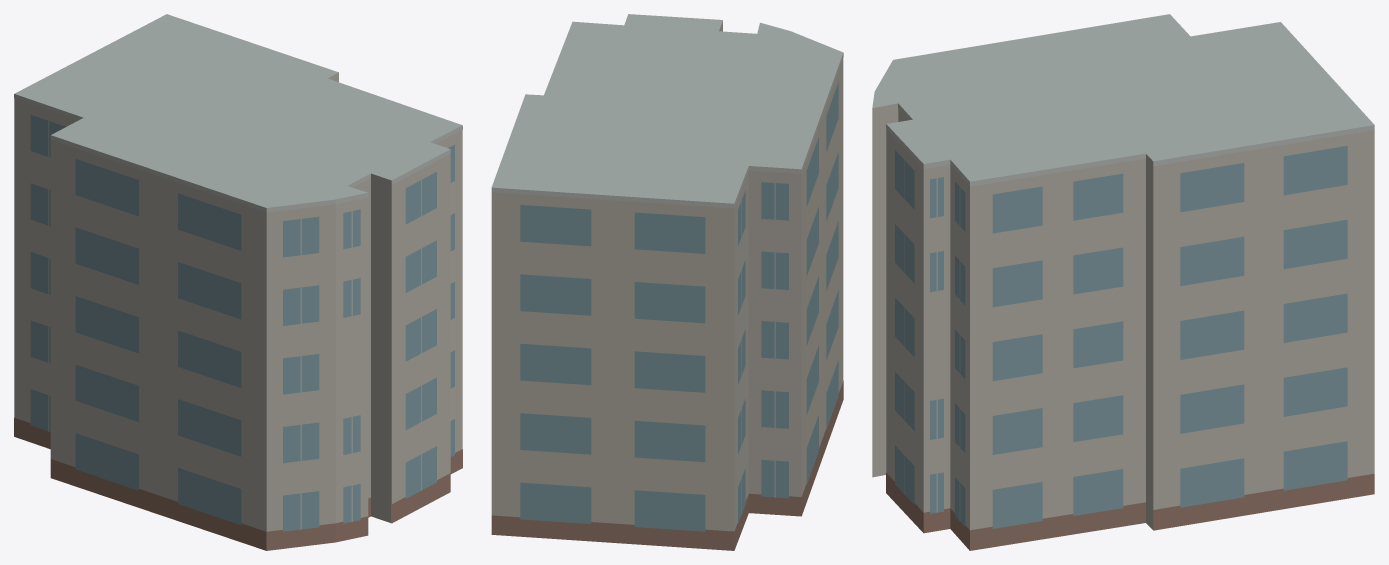
Rendered from survey-upis-32943096.glb.
3 views of the same model, side by side, from view 1: azimuth 30°, elevation 25°; view 2: azimuth 150°, elevation 25°; view 3: azimuth 270°, elevation 25° (orthographic). The views are drawn at different scales.
Visible parts, largest first — view 1: survey-upis-32943096.tmp; view 2: survey-upis-32943096.tmp; view 3: survey-upis-32943096.tmp.
Boxes of the visible parts, x1,y1,x2,y2 form: survey-upis-32943096.tmp: [14, 14, 462, 550]; survey-upis-32943096.tmp: [491, 14, 843, 550]; survey-upis-32943096.tmp: [872, 14, 1374, 550].
Size of the model in its own units: 17.69 by 18.15 by 22.4.
